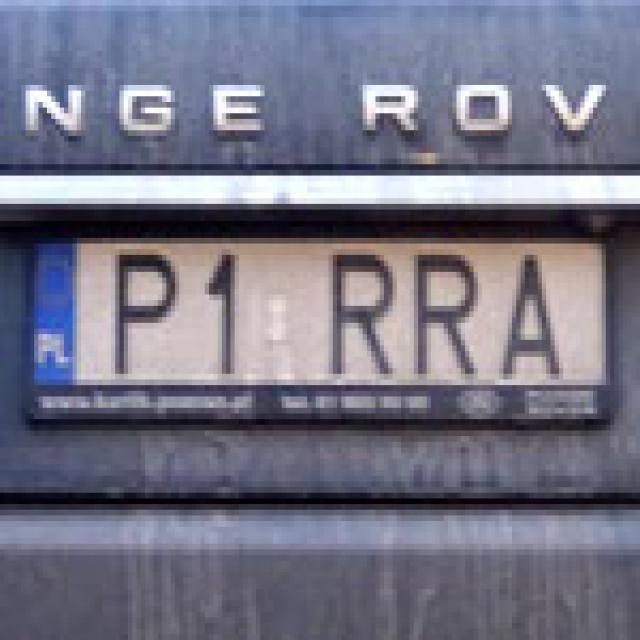pl_license_plate: (26, 232, 602, 380)
